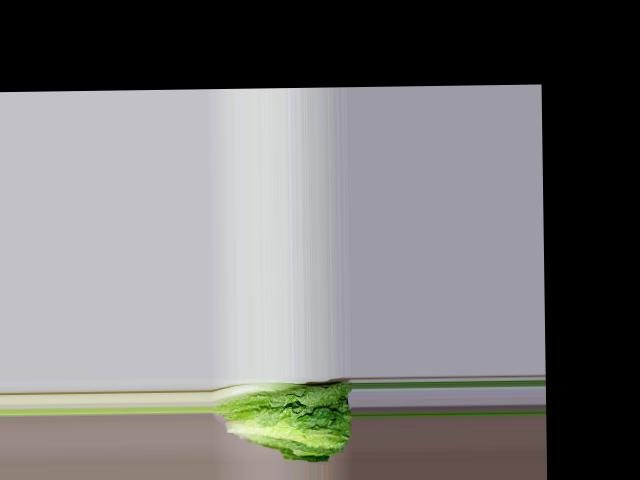lettuce: (218, 378, 353, 453)
